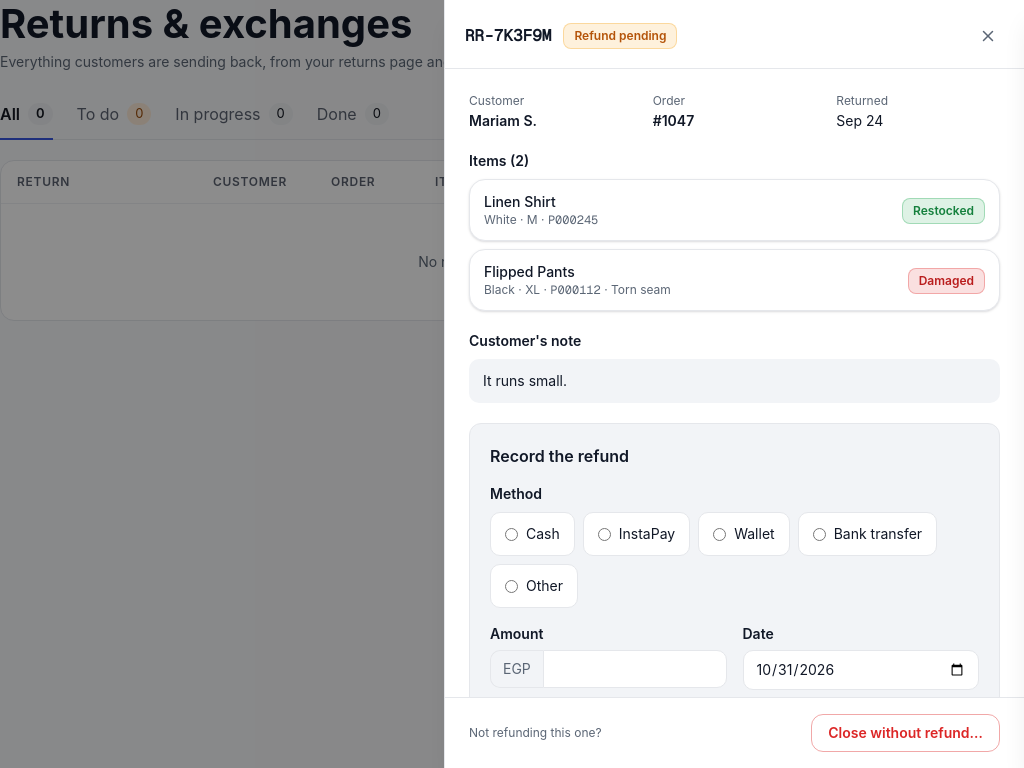
Test: R1 — record the refund › amount validation: empty and zero are rejected
This screenshot has width=1024, height=768.
Expected: the element with test id "return-request-drawer-body" is shown, [445,69,1023,697]
Expected: the field labelled "Amount" is empty, [543,650,726,688]
Click the radio button labelled "Cash".
click(512, 534)  # box [505,528,518,540]
(page scrolled)
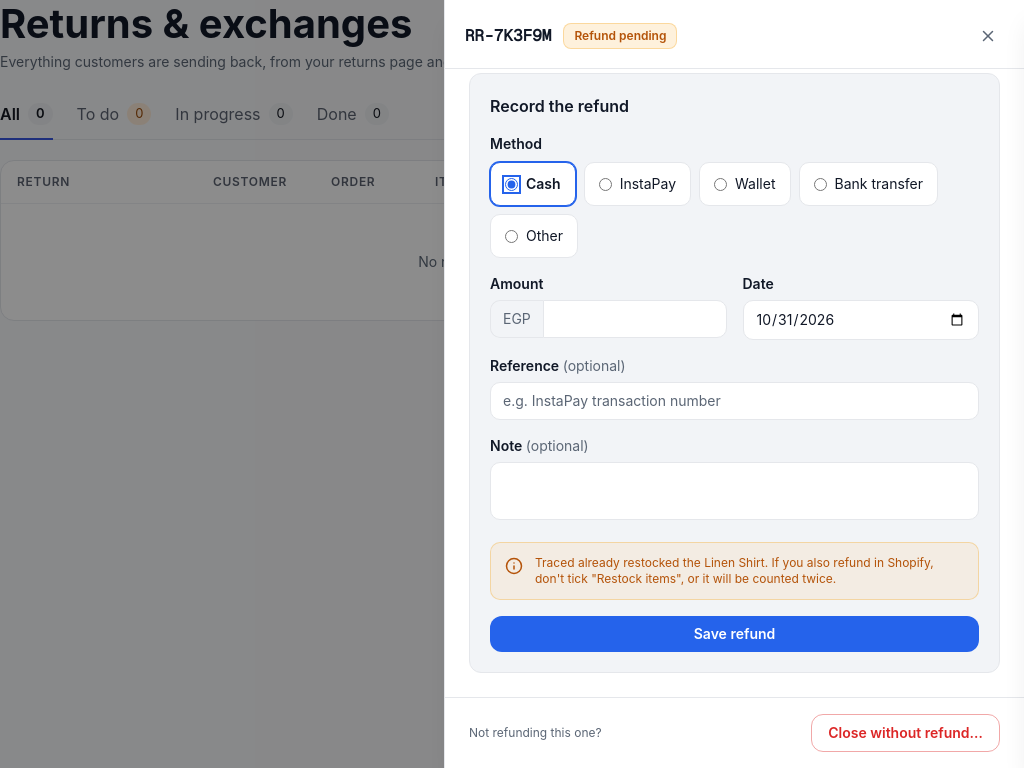
Click the button "Save refund".
click(734, 634)  # box [490,616,979,652]
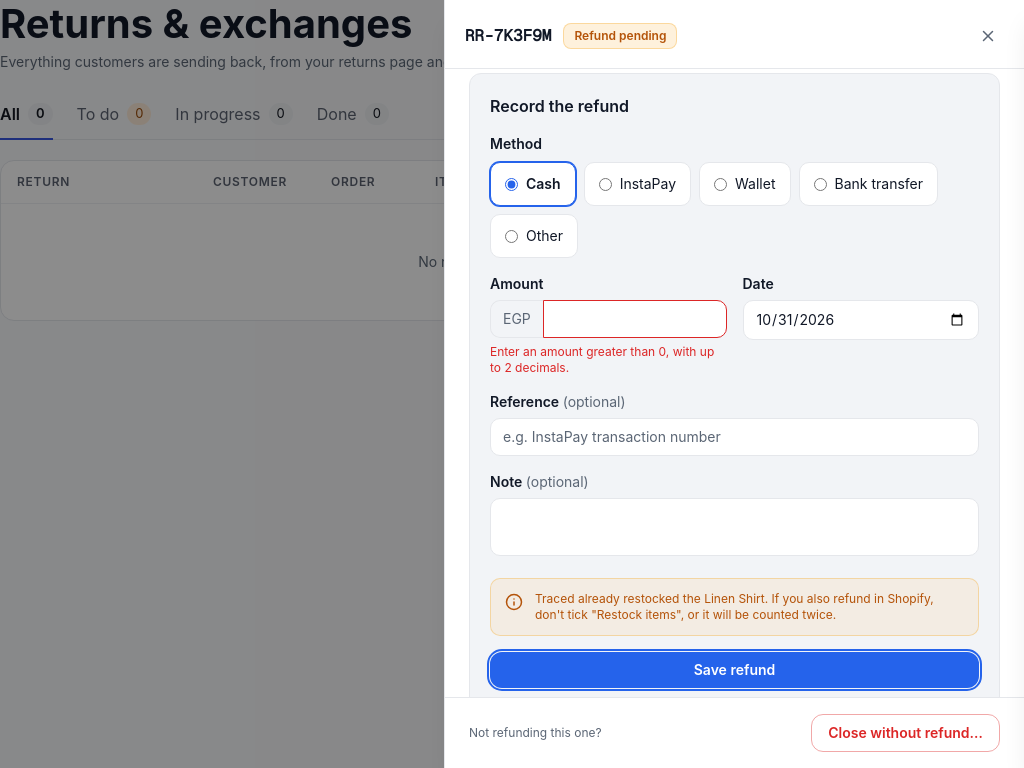
Result: the message shows "Enter an amount greater than 0" at [490,344,714,375]
Type "0" into the field labelled "Amount".
click(635, 319); type("0")  # box [543,300,726,338]
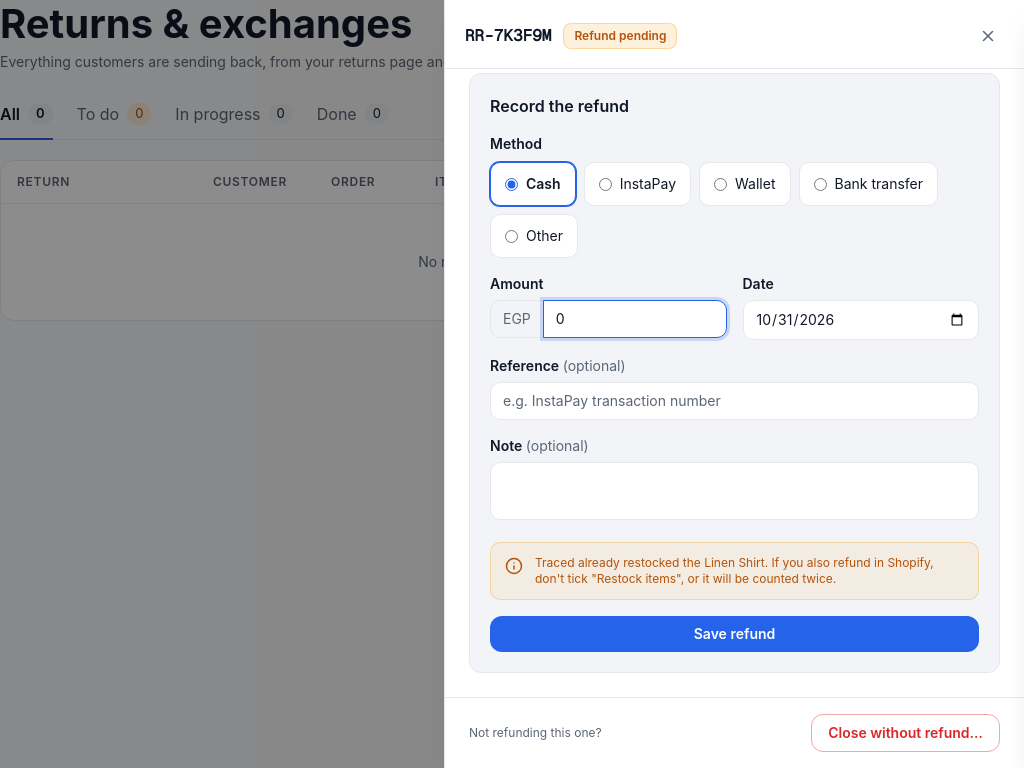
Click the button "Save refund".
click(734, 634)  # box [490,616,979,652]
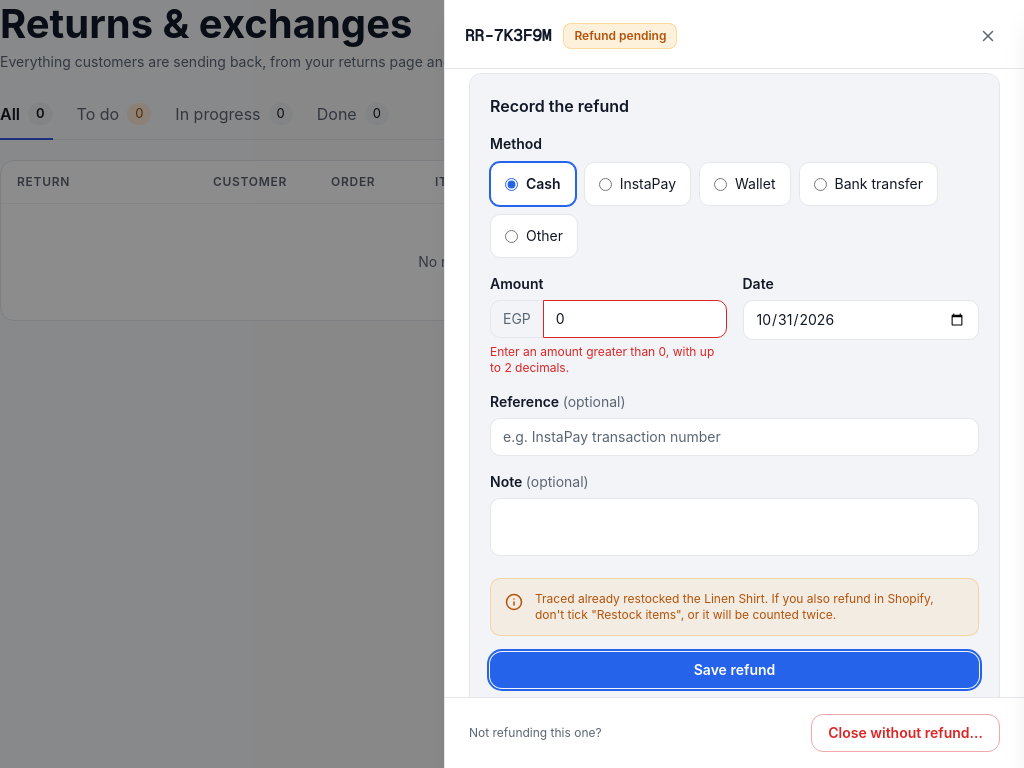
Result: the message shows "Enter an amount greater than 0" at [490,344,714,375]
